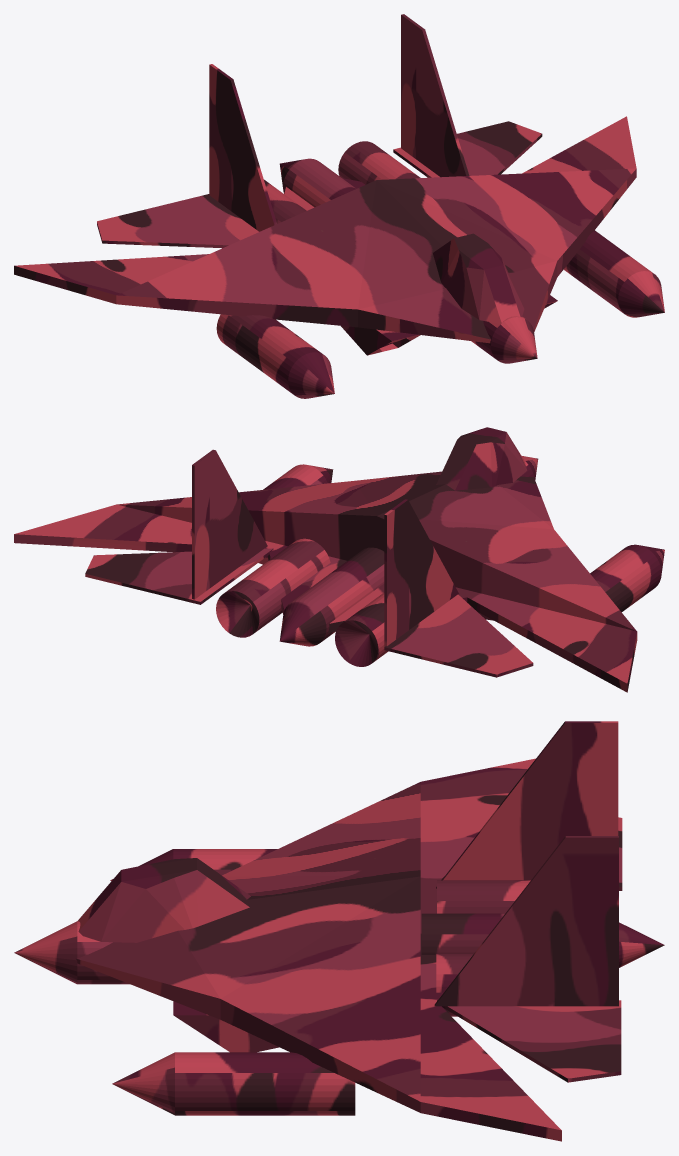
Rendered from enemy.obj.
3 renders of one model, top to bottom at view 1: azimuth 30°, elevation 25°; view 2: azimuth 150°, elevation 25°; view 3: azimuth 270°, elevation 25°, orthographic. The views are drawn at different scales.
Parts seen in each view (by area): view 1: fighter; view 2: fighter; view 3: fighter.
Boxes of the visible parts, x1,y1,x2,y2 form: fighter: [14, 14, 664, 398]; fighter: [14, 427, 664, 692]; fighter: [14, 721, 664, 1141].
Bounding box in the file's own units: 1.28 × 0.3756 × 0.9306.
1 material, 1 textured.
